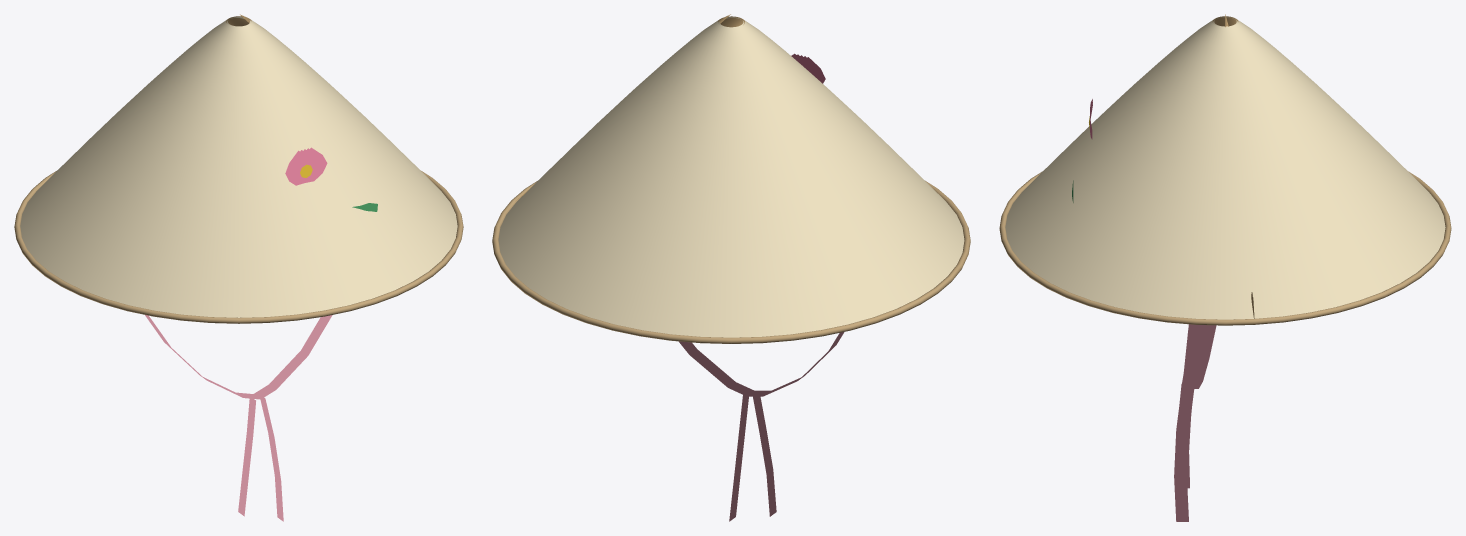
Rendered from non_la_theu_sen_v2.obj.
3 views of the same model, side by side, from view 1: azimuth 30°, elevation 25°; view 2: azimuth 150°, elevation 25°; view 3: azimuth 270°, elevation 25° (orthographic). The views are drawn at different scales.
Size of the model in its own units: 0.422 by 0.513 by 0.422.
